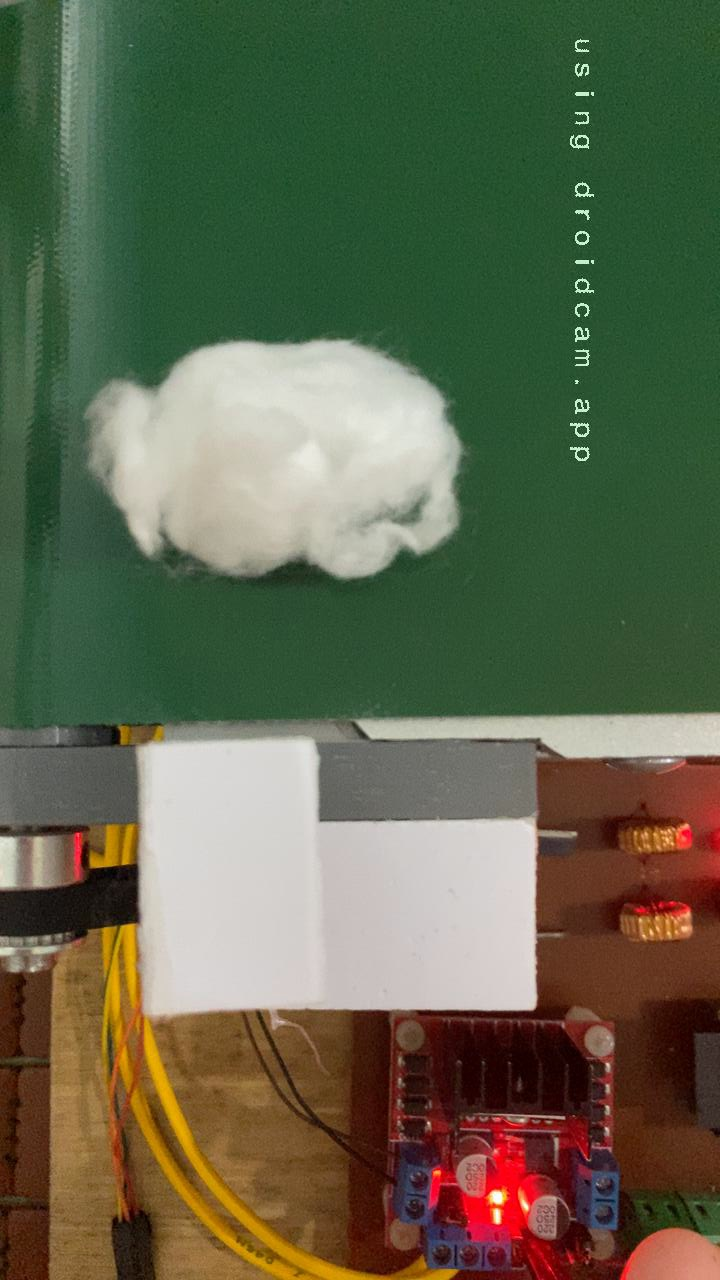cotton: (83, 333, 469, 585)
